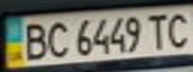4: (90, 15, 112, 55), (109, 14, 127, 54)
6: (72, 16, 96, 56)
9: (124, 12, 148, 53)
B: (18, 19, 51, 61)
C: (163, 9, 193, 50), (42, 18, 72, 58)
T: (142, 11, 172, 50)
